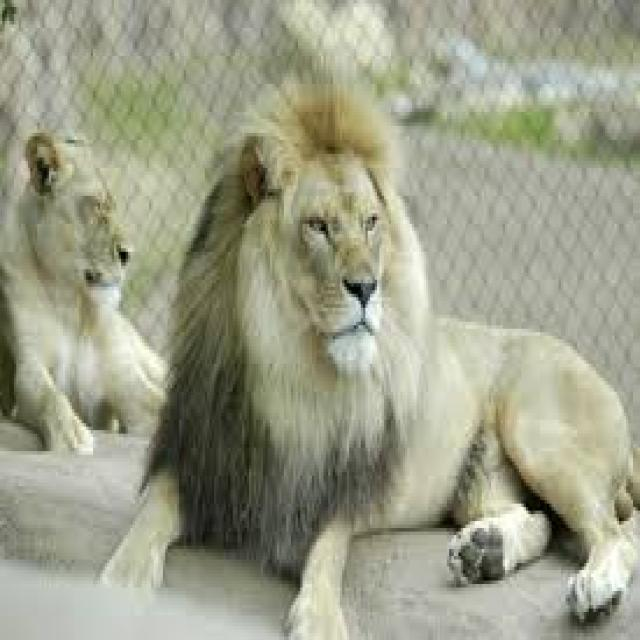Lion: (102, 80, 638, 637)
